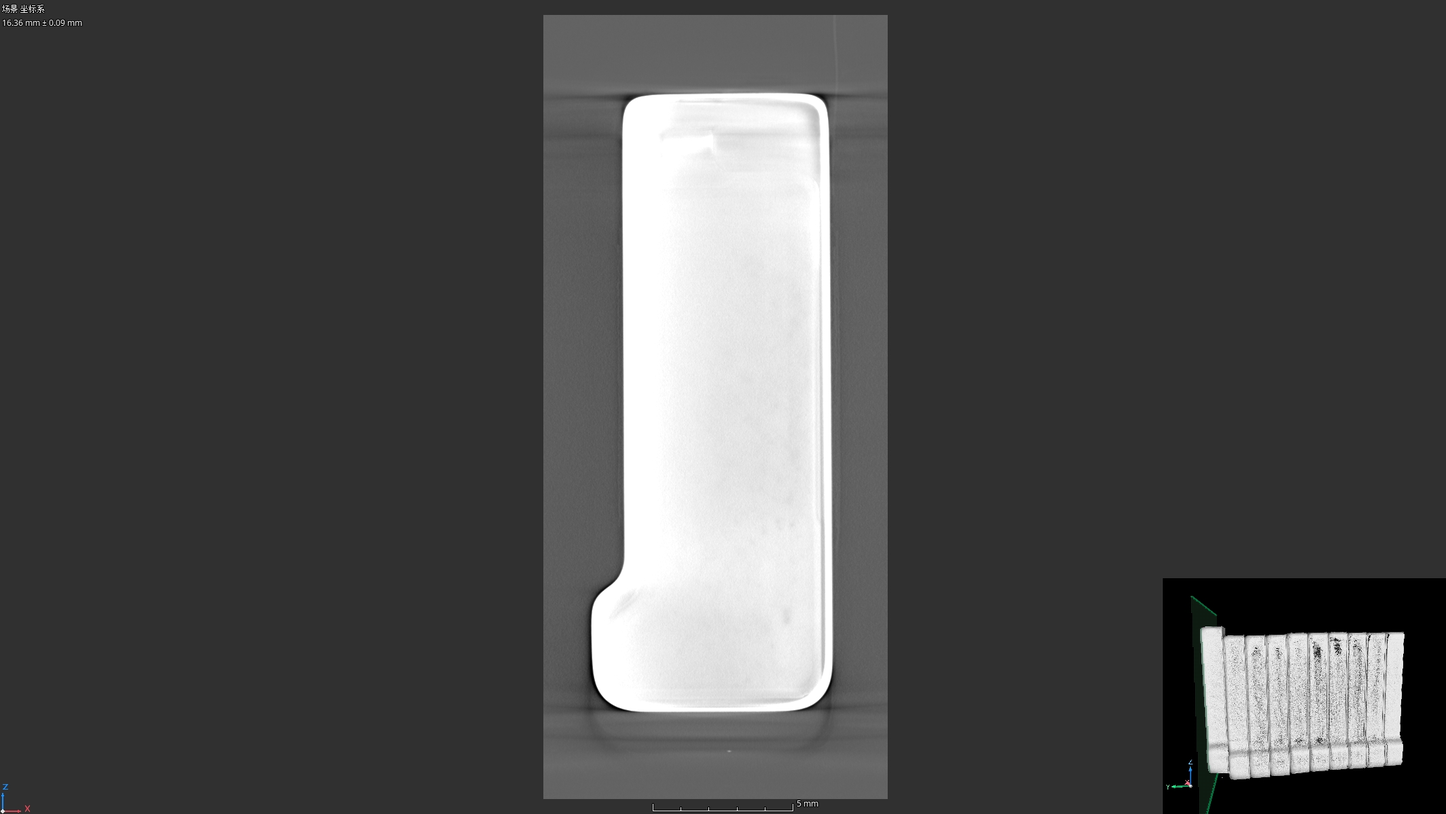dark: (781, 603, 796, 626)
